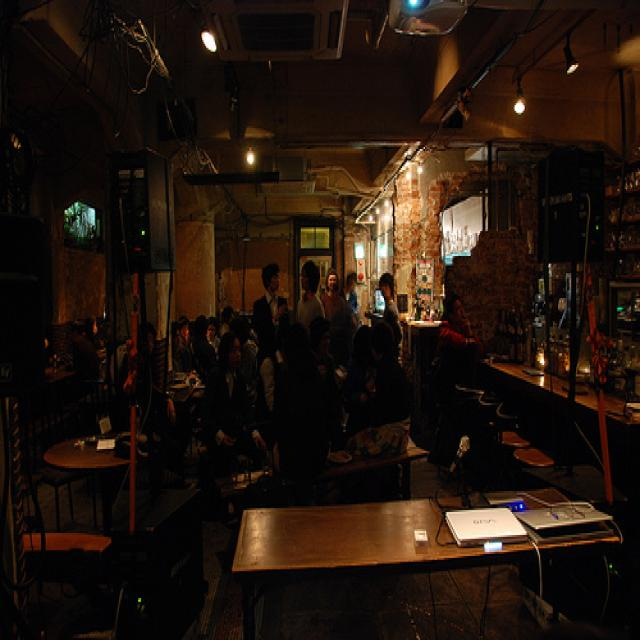People: (205, 331, 252, 443), (377, 260, 407, 367), (258, 242, 290, 338), (296, 251, 328, 343), (171, 293, 206, 375), (346, 247, 374, 318), (324, 264, 352, 331)
Table: (223, 459, 640, 640), (45, 412, 158, 524)
chair: (492, 396, 566, 479), (469, 370, 524, 468)
